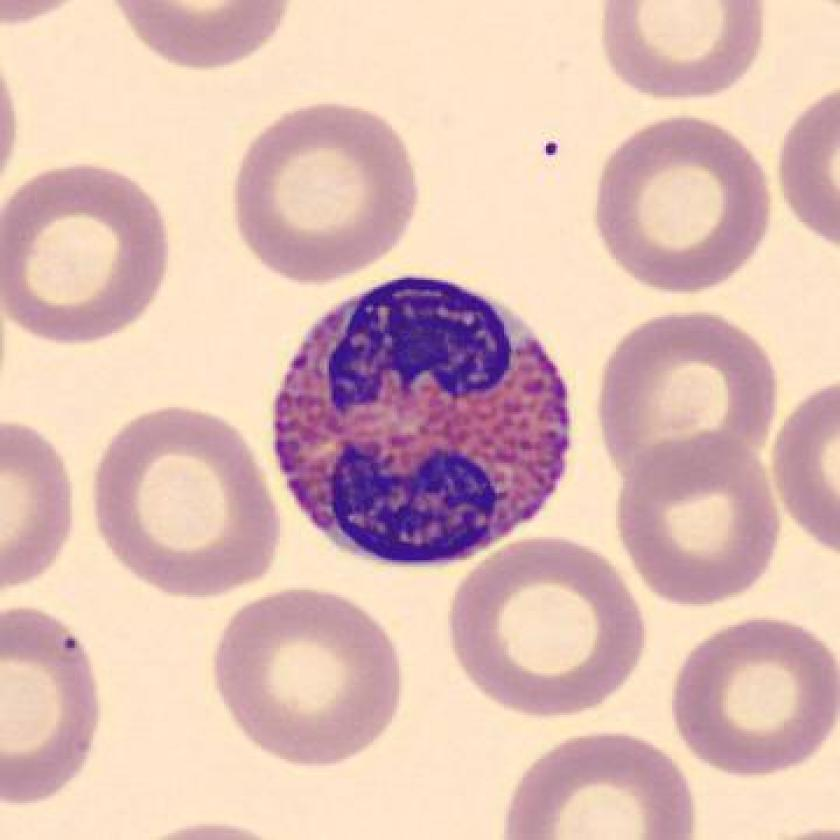eosinophil: (256, 263, 578, 580)
